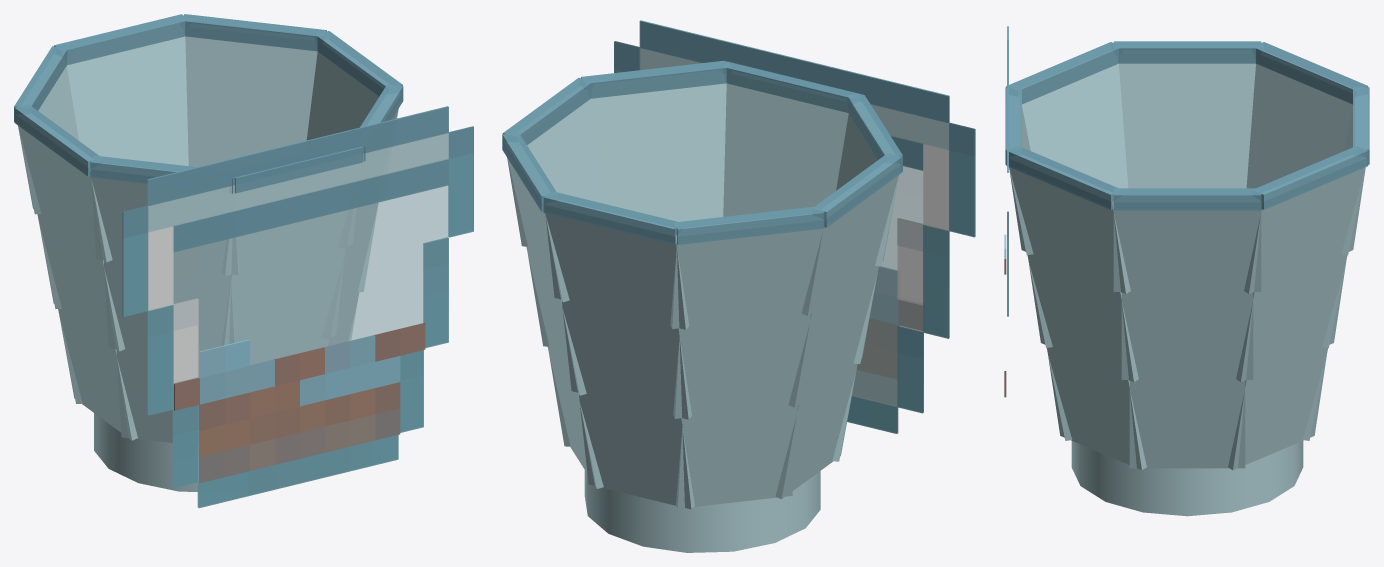
The model's file is CMU3DDrinkWhiskeyColaGlass.glb.
The picture shows the model from 3 angles, left to right: view 1: azimuth 30°, elevation 25°; view 2: azimuth 150°, elevation 25°; view 3: azimuth 270°, elevation 25°; orthographic projection. The views are drawn at different scales.
Visible parts, largest first — view 1: base original source artwork, fill original source artwork, hollow wall tier 3 facet 2, hollow wall tier 3 facet 3, hollow wall tier 2 facet 7, hollow wall tier 2 facet 6, hollow wall tier 3 facet 5, hollow wall tier 2 facet 5, hollow wall tier 1 facet 5, hollow wall tier 3 facet 6, hollow wall tier 3 facet 7, hollow wall tier 3 facet 1 (+16 smaller); view 2: base original source artwork, hollow wall tier 3 facet 8, hollow wall tier 3 facet 4, hollow wall tier 3 facet 7, hollow wall tier 2 facet 4, heavy glass foot, hollow wall tier 3 facet 3, hollow wall tier 2 facet 3, hollow wall tier 1 facet 4, hollow wall tier 1 facet 3, hollow wall tier 3 facet 5, hollow wall tier 2 facet 5 (+17 smaller); view 3: hollow wall tier 3 facet 5, hollow wall tier 3 facet 1, hollow wall tier 2 facet 1, heavy glass foot, hollow wall tier 1 facet 1, hollow wall tier 3 facet 8, hollow wall tier 3 facet 2, hollow wall tier 3 facet 4, hollow wall tier 3 facet 6, hollow wall tier 2 facet 8, hollow wall tier 2 facet 2, hollow wall tier 1 facet 2 (+16 smaller).
Part boxes in pixels (bbox=[...]): base original source artwork: bbox=[122, 106, 473, 508]; fill original source artwork: bbox=[174, 323, 425, 482]; hollow wall tier 3 facet 2: bbox=[185, 36, 317, 143]; hollow wall tier 3 facet 3: bbox=[67, 36, 187, 153]; hollow wall tier 2 facet 7: bbox=[221, 247, 345, 355]; hollow wall tier 2 facet 6: bbox=[103, 260, 235, 356]; hollow wall tier 3 facet 5: bbox=[18, 125, 112, 262]; hollow wall tier 2 facet 5: bbox=[37, 214, 125, 351]; hollow wall tier 1 facet 5: bbox=[58, 308, 137, 440]; hollow wall tier 3 facet 6: bbox=[91, 177, 239, 274]; hollow wall tier 3 facet 7: bbox=[222, 193, 356, 275]; hollow wall tier 3 facet 1: bbox=[306, 52, 398, 140]; base original source artwork: bbox=[614, 20, 975, 433]; hollow wall tier 3 facet 8: bbox=[590, 83, 726, 195]; hollow wall tier 3 facet 4: bbox=[670, 228, 823, 328]; hollow wall tier 3 facet 7: bbox=[724, 83, 848, 204]; hollow wall tier 2 facet 4: bbox=[673, 313, 810, 418]; heavy glass foot: bbox=[584, 470, 820, 552]; hollow wall tier 3 facet 3: bbox=[545, 213, 689, 329]; hollow wall tier 2 facet 3: bbox=[562, 300, 691, 419]; hollow wall tier 1 facet 4: bbox=[676, 404, 797, 508]; hollow wall tier 1 facet 3: bbox=[579, 394, 694, 509]; hollow wall tier 3 facet 5: bbox=[801, 175, 898, 315]; hollow wall tier 2 facet 5: bbox=[788, 265, 878, 407]; hollow wall tier 3 facet 5: bbox=[1119, 63, 1255, 159]; hollow wall tier 3 facet 1: bbox=[1113, 210, 1261, 291]; hollow wall tier 2 facet 1: bbox=[1121, 290, 1253, 379]; heavy glass foot: bbox=[1071, 441, 1303, 516]; hollow wall tier 1 facet 1: bbox=[1129, 378, 1245, 468]; hollow wall tier 3 facet 8: bbox=[1009, 167, 1130, 293]; hollow wall tier 3 facet 2: bbox=[1244, 167, 1365, 293]; hollow wall tier 3 facet 4: bbox=[1249, 63, 1352, 174]; hollow wall tier 3 facet 6: bbox=[1022, 63, 1125, 174]; hollow wall tier 2 facet 8: bbox=[1027, 254, 1138, 381]; hollow wall tier 2 facet 2: bbox=[1236, 254, 1347, 381]; hollow wall tier 1 facet 2: bbox=[1228, 346, 1327, 470].
Size of what is drawn, in the model's own units: 0.4375 by 0.4375 by 0.394.
Materials: 5 (2 with a texture image).
